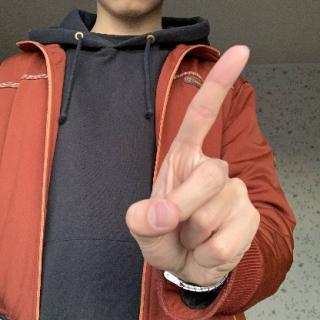BAA: (120, 41, 260, 286)
